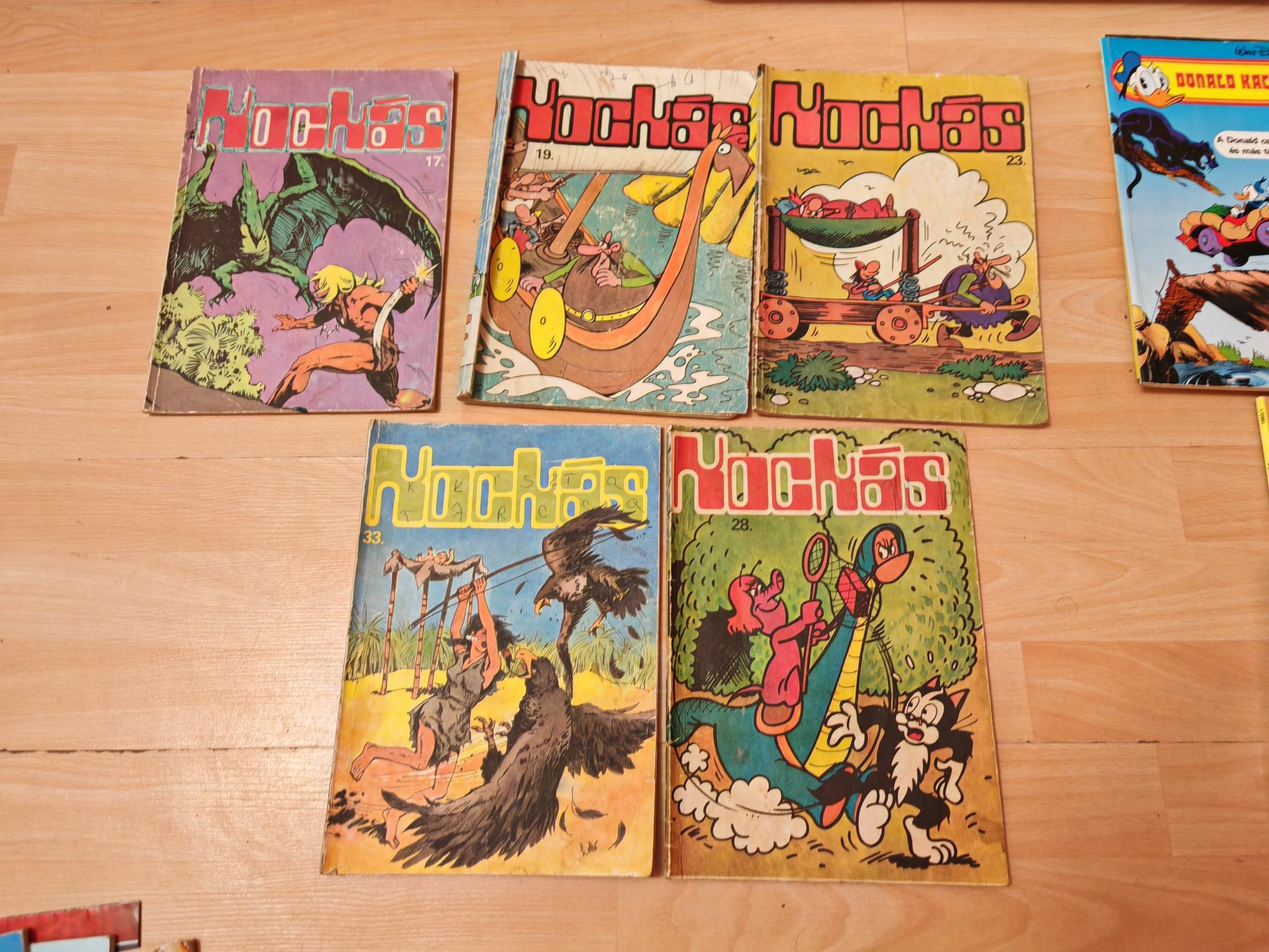comic: (667, 428, 1007, 883), (324, 422, 661, 875), (145, 55, 454, 426), (458, 51, 767, 417), (753, 67, 1055, 425), (1102, 36, 1268, 388)
